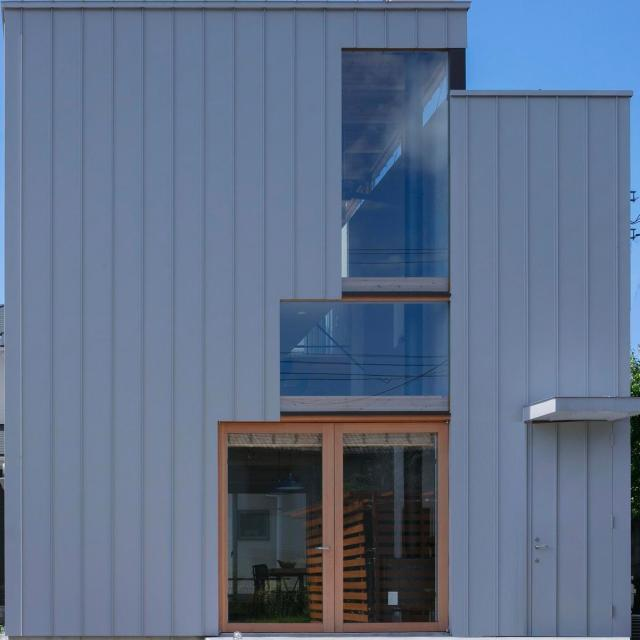door: (217, 420, 447, 636)
window: (339, 51, 446, 277), (277, 301, 449, 394)
